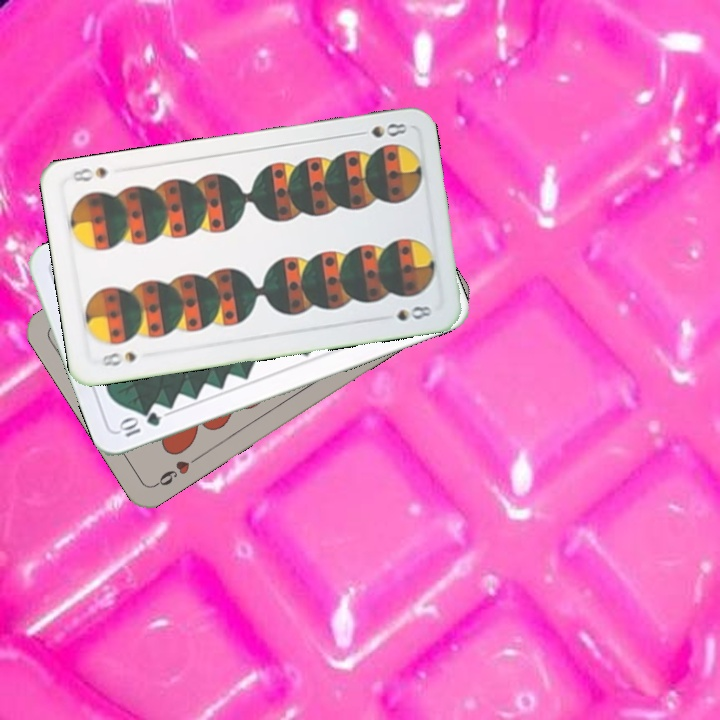G10: (115, 408, 164, 440)
H9: (150, 452, 203, 490)
S8: (351, 119, 410, 141), (96, 348, 140, 369)
